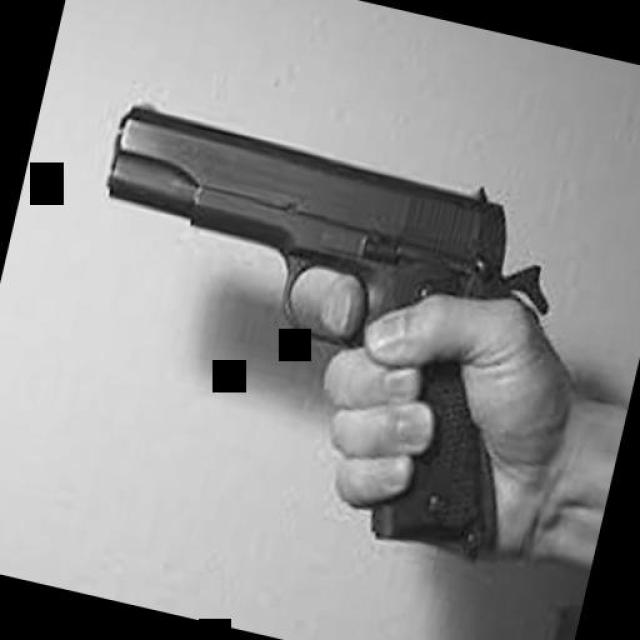gun: (35, 80, 587, 570)
